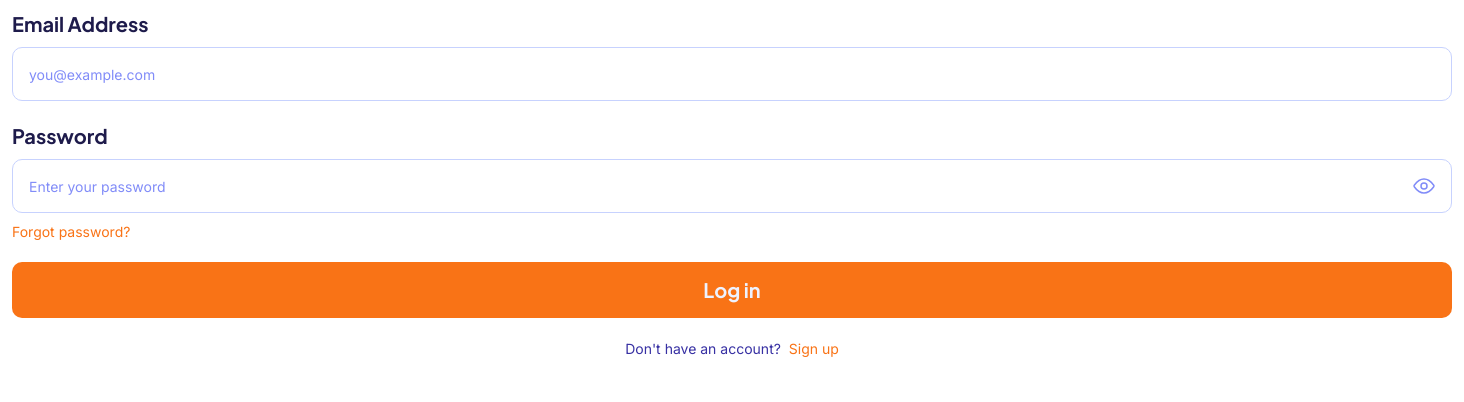
Test: LoginForm — client-side validation › reports an invalid email on blur
The image size is (1464, 402).
Type "not-an-email" into the field labelled "Email Address" at (732,74), box [12,47,1452,101]
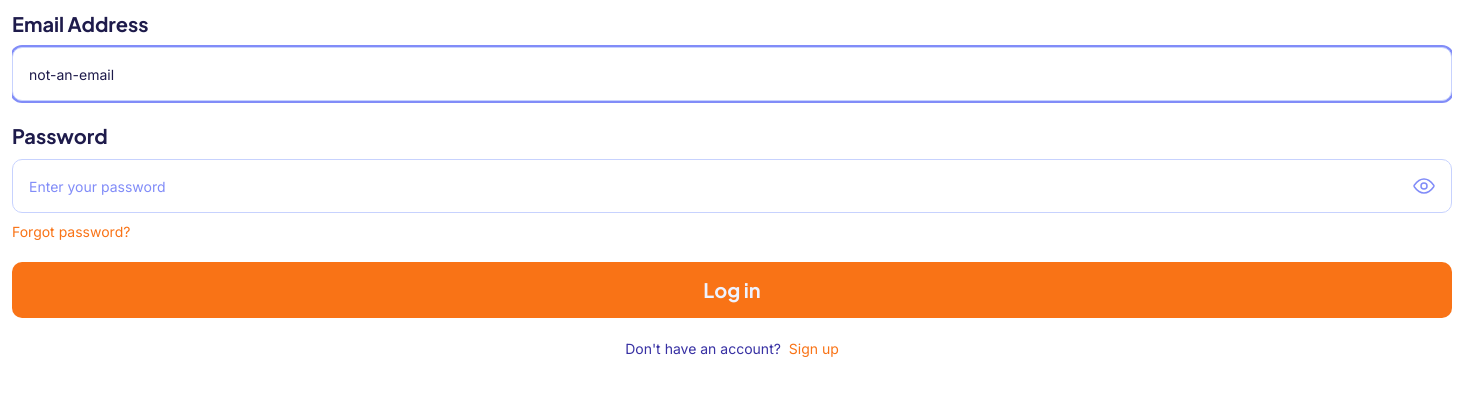
Press Tab
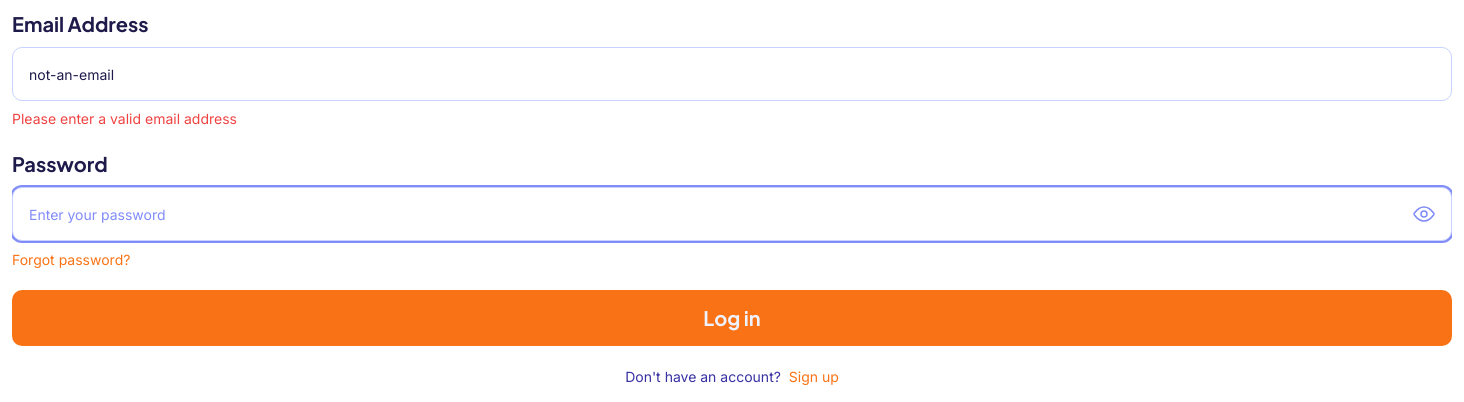
Result: the text "Please enter a valid email address" is shown at [12,110,237,127]
